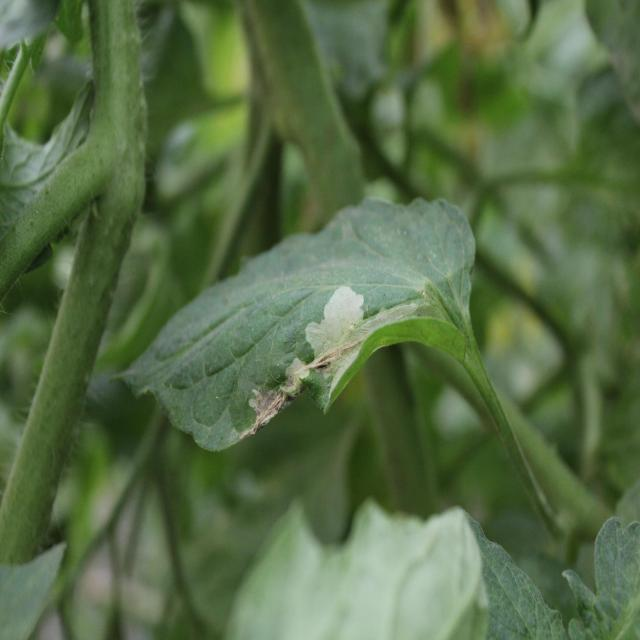Tuta absoluta: (226, 281, 387, 460)
